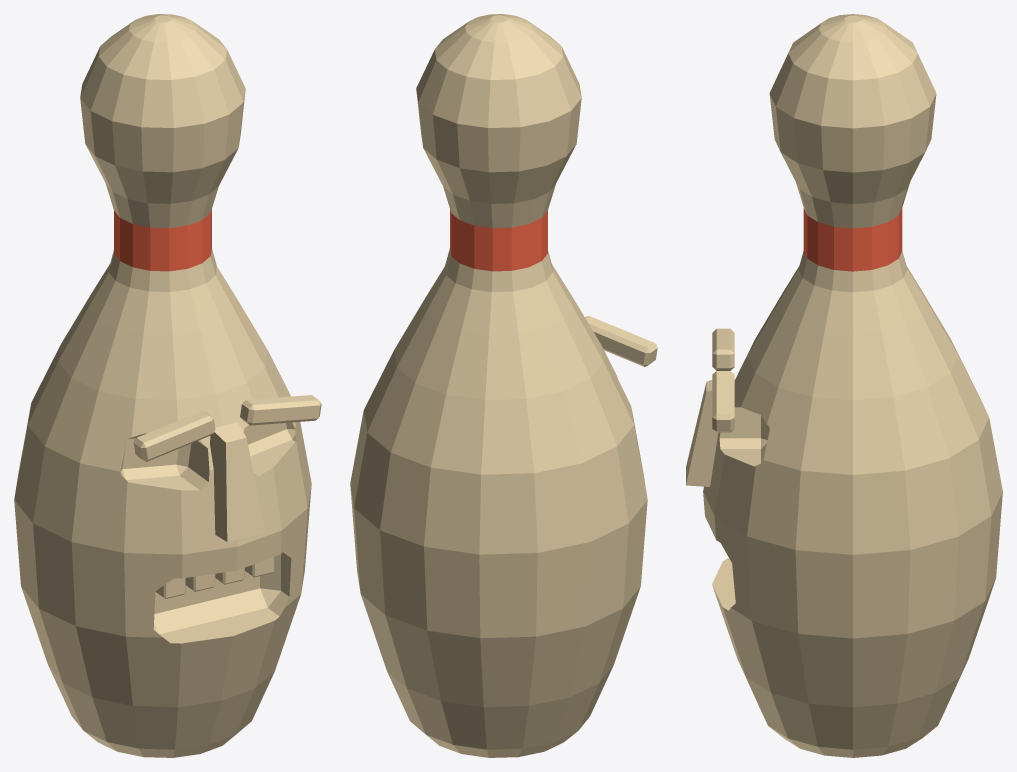
File: tiki-pin.glb
3 views of the same model, side by side, from view 1: azimuth 30°, elevation 25°; view 2: azimuth 150°, elevation 25°; view 3: azimuth 270°, elevation 25° (orthographic).
Visible parts, largest first — view 1: Tiki bowling pin, Faceted tiki nose, Carved brow ridge, Carved brow ridge.001; view 2: Tiki bowling pin, Carved brow ridge; view 3: Tiki bowling pin, Faceted tiki nose, Carved brow ridge.001, Carved brow ridge.
Part boxes in pixels (bbox=[...]): Tiki bowling pin: bbox=[14, 14, 311, 757]; Faceted tiki nose: bbox=[210, 422, 265, 541]; Carved brow ridge: bbox=[133, 410, 215, 461]; Carved brow ridge.001: bbox=[240, 395, 321, 425]; Tiki bowling pin: bbox=[350, 14, 647, 757]; Carved brow ridge: bbox=[585, 316, 657, 366]; Tiki bowling pin: bbox=[703, 14, 1002, 757]; Faceted tiki nose: bbox=[686, 380, 718, 486]; Carved brow ridge.001: bbox=[712, 371, 734, 432]; Carved brow ridge: bbox=[712, 328, 734, 370].
Size of the model in its own units: 0.8801 by 2.29 by 0.9301.
